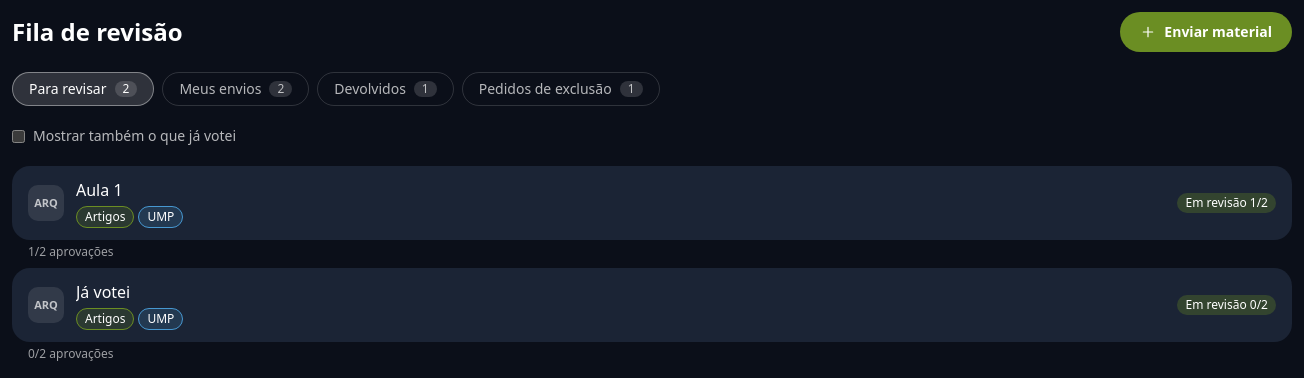
Test: ReviewQueuePage — curador › item devolvido mostra o comentário de devolução
Step 1. Click the tab "Meus envios 2" → click(236, 89), box [162,72,309,106]
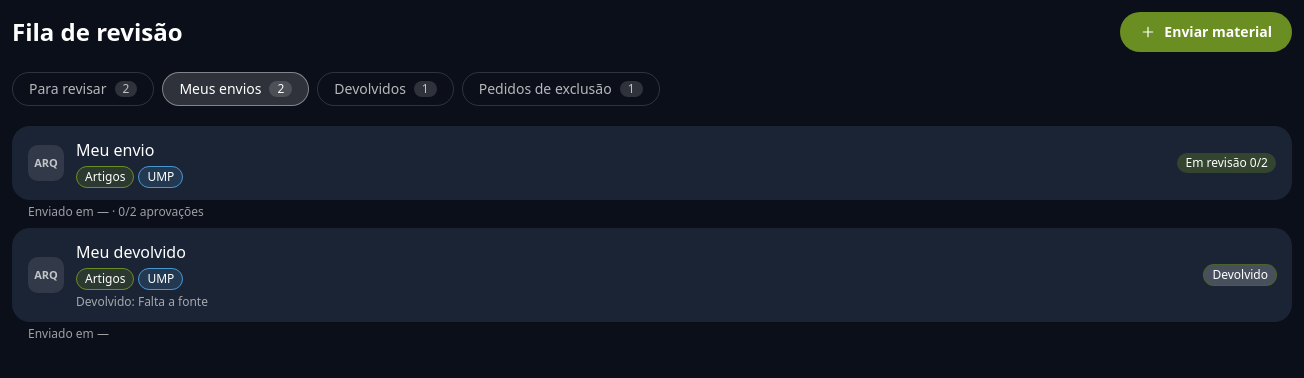
Check: the text "Devolvido: Falta a fonte" is shown, box [76,293,208,310]
